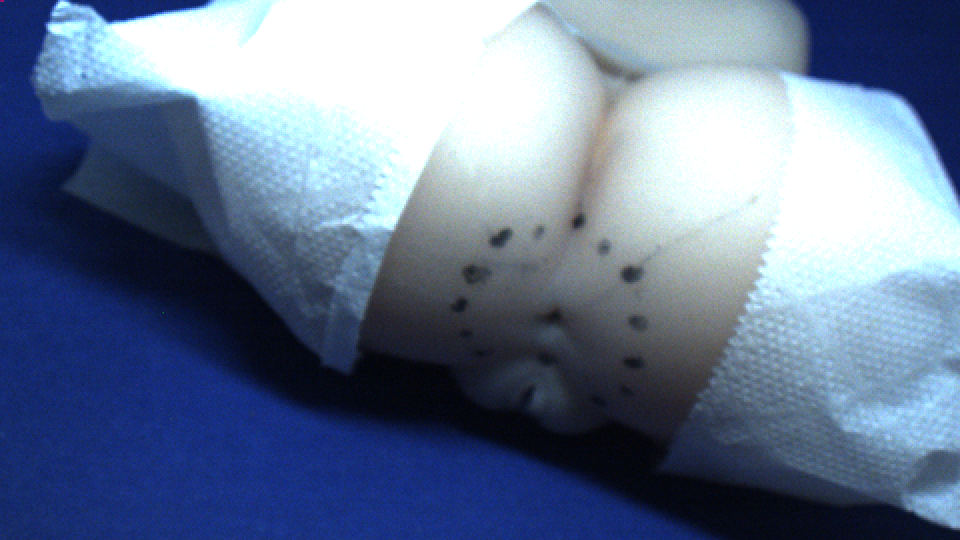asarp_marker: (456, 265, 499, 285), (616, 352, 650, 373), (487, 226, 510, 250), (623, 265, 647, 288), (625, 314, 652, 332), (590, 388, 608, 415), (619, 388, 647, 405), (475, 345, 499, 362), (571, 214, 590, 235), (537, 351, 558, 370), (450, 299, 474, 313), (459, 327, 473, 340)
